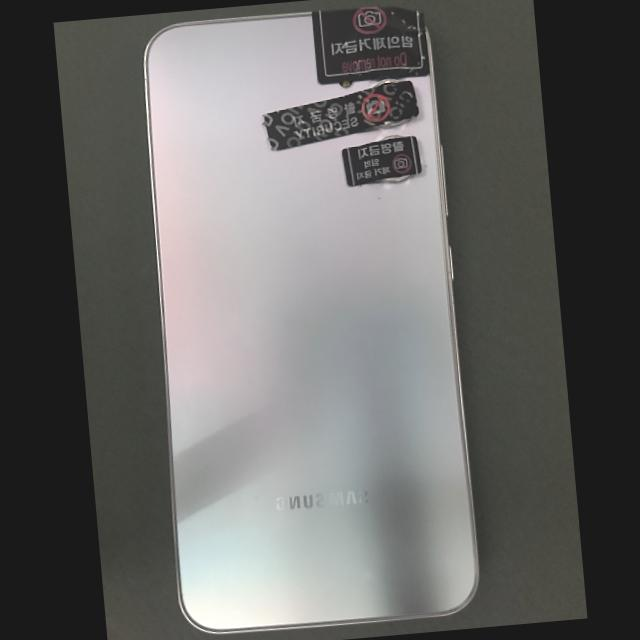lens: (378, 135, 406, 142), (374, 81, 393, 87)
phone: (143, 7, 479, 634)
sticker: (261, 79, 418, 150), (311, 6, 430, 83), (341, 135, 421, 186)
